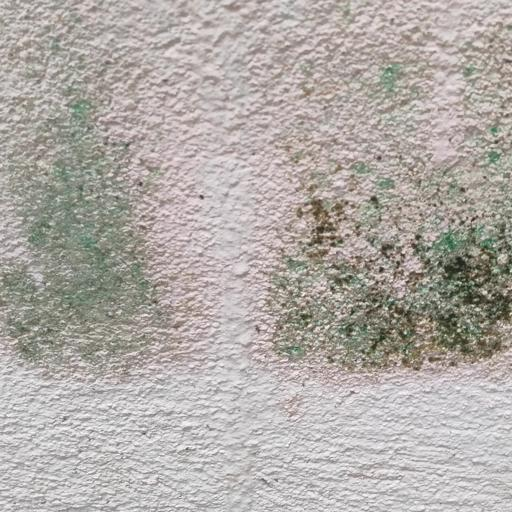algae: (15, 63, 512, 382)
